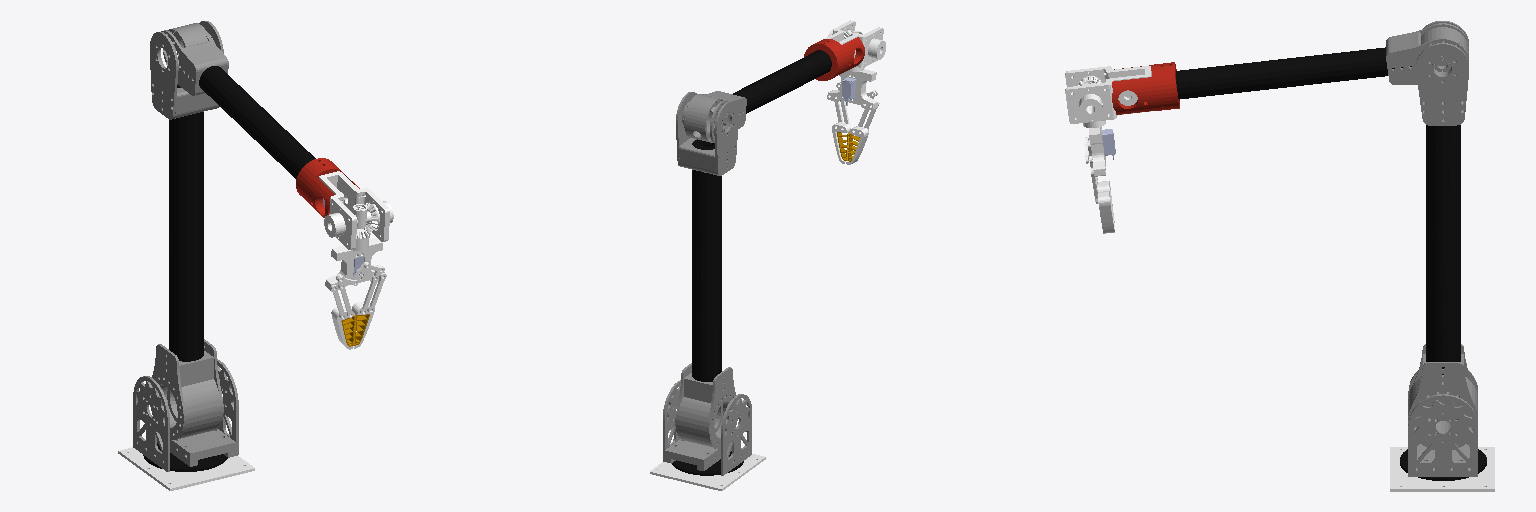
--- Facts derived from the render (not from the file) ---
3 views of the same robot in one strip: view 1: azimuth 30°, elevation 25°; view 2: azimuth 150°, elevation 25°; view 3: azimuth 270°, elevation 25° (orthographic).
Model new_manipulator_urdf2 with 42 links and 41 joints (18 revolute, 23 fixed), rooted at base_link, posed every joint at zero.
Visible links, largest first — view 1: link1, link2, link1_side_plate2, link3, outer_shaft1, base_link, link2_side_plate21, plate_support, link3_holder, link1_side_plate22, link1_side_plate1, gripper_mainbody (+6 smaller); view 2: link1, link2, link1_side_plate2, outer_shaft1, link2_side_plate21, base_link, link3_holder, plate_support, outer_shaft2, link1_side_plate22, gripper_mainbody, link1_end_part (+3 smaller); view 3: link1, link2, link1_side_plate1, link2_side_plate11, link3, link3_holder, base_link, link1_side_plate12, link2_side_plate_12, gripper_mainbody, outer_shaft1, outer_shaft2.
Link boxes in pixels (<box>): link1: <box>169,85,203,361</box>; link2: <box>199,66,315,178</box>; link1_side_plate2: <box>133,376,169,471</box>; link3: <box>319,171,389,249</box>; outer_shaft1: <box>159,379,220,439</box>; base_link: <box>118,447,254,490</box>; link2_side_plate21: <box>150,32,178,119</box>; plate_support: <box>157,429,235,466</box>; link3_holder: <box>296,158,359,217</box>; link1_side_plate22: <box>150,344,185,439</box>; link1_side_plate1: <box>217,359,238,455</box>; gripper_mainbody: <box>325,237,384,291</box>; link1: <box>692,139,721,381</box>; link2: <box>733,50,831,113</box>; link1_side_plate2: <box>721,394,751,475</box>; outer_shaft1: <box>677,397,730,447</box>; link2_side_plate21: <box>714,101,738,175</box>; base_link: <box>650,454,765,490</box>; link3_holder: <box>804,37,864,80</box>; plate_support: <box>665,439,731,470</box>; outer_shaft2: <box>686,94,727,142</box>; link1_side_plate22: <box>707,367,737,448</box>; gripper_mainbody: <box>827,69,877,109</box>; link1_end_part: <box>679,138,717,175</box>; link1: <box>1426,125,1460,374</box>; link2: <box>1176,47,1411,99</box>; link1_side_plate1: <box>1408,394,1477,476</box>; link2_side_plate11: <box>1416,43,1468,125</box>; link3: <box>1065,66,1151,123</box>; link3_holder: <box>1112,62,1179,114</box>; base_link: <box>1390,447,1494,491</box>; link1_side_plate12: <box>1408,362,1477,449</box>; link2_side_plate_12: <box>1386,38,1468,84</box>; gripper_mainbody: <box>1089,127,1105,176</box>; outer_shaft1: <box>1408,377,1477,434</box>; outer_shaft2: <box>1421,27,1468,55</box>.
Size in the robot's own frame: 0.17 by 0.7359 by 0.829 metres.
39 mesh visuals loaded from 42 distinct referenced files (39 binary STL); not drawn: 3 (reference not matched to a file when rendering).

URDF robot description (new_manipulator_urdf2):
<?xml version="1.0" encoding="utf-8"?>
<!-- This URDF was automatically created by SolidWorks to URDF Exporter! Originally created by Stephen Brawner ([email redacted]) 
     Commit Version: 1.6.0-4-g7f85cfe  Build Version: 1.6.7995.38578
     For more information, please see http://wiki.ros.org/sw_urdf_exporter -->
<robot
  name="new_manipulator_urdf2">
  <link
    name="base_link">
    <inertial>
      <origin
        xyz="-2.22044604925031E-16 -0.00224854905210781 4.44089209850063E-16"
        rpy="0 0 0" />
      <mass
        value="0.139707136084498" />
      <inertia
        ixx="0.000407966760717312"
        ixy="-2.98071223098969E-19"
        ixz="2.52359462446658E-18"
        iyy="0.000362153855961994"
        iyz="6.68817379847048E-18"
        izz="0.000769538503612287" />
    </inertial>
    <visual>
      <origin
        xyz="0 0 0"
        rpy="0 0 0" />
      <geometry>
        <mesh
          filename="package://new_manipulator_urdf2/meshes/base_link.STL" />
      </geometry>
      <material
        name="">
        <color
          rgba="0.96078431372549 0.96078431372549 0.964705882352941 1" />
      </material>
    </visual>
    <collision>
      <origin
        xyz="0 0 0"
        rpy="0 0 0" />
      <geometry>
        <mesh
          filename="package://new_manipulator_urdf2/meshes/base_link.STL" />
      </geometry>
    </collision>
  </link>
  <link
    name="base_plate">
    <inertial>
      <origin
        xyz="-1.22886286372248E-05 0 1.11022302462516E-16"
        rpy="0 0 0" />
      <mass
        value="0.0862820052494155" />
      <inertia
        ixx="0.000123802300064541"
        ixy="1.06663922016303E-19"
        ixz="8.84714563380274E-19"
        iyy="0.000121470538062705"
        iyz="2.03454754632287E-18"
        izz="0.00024491332977204" />
    </inertial>
    <visual>
      <origin
        xyz="0 0 0"
        rpy="0 0 0" />
      <geometry>
        <mesh
          filename="package://new_manipulator_urdf2/meshes/base_plate.STL" />
      </geometry>
      <material
        name="">
        <color
          rgba="0.0980392156862745 0.0980392156862745 0.0980392156862745 1" />
      </material>
    </visual>
    <collision>
      <origin
        xyz="0 0 0"
        rpy="0 0 0" />
      <geometry>
        <mesh
          filename="package://new_manipulator_urdf2/meshes/base_plate.STL" />
      </geometry>
    </collision>
  </link>
  <joint
    name="base_link_j_base_plate"
    type="revolute">
    <origin
      xyz="0 0 0.015"
      rpy="0 0 0" />
    <parent
      link="base_link" />
    <child
      link="base_plate" />
    <axis
      xyz="0 0 -1" />
    <limit
      lower="0"
      upper="6.28"
      effort="500"
      velocity="5" />
  </joint>
  <link
    name="plate_support">
    <inertial>
      <origin
        xyz="4.44089209850063E-16 0.0599999999999996 9.42699875334796E-05"
        rpy="0 0 0" />
      <mass
        value="0.20022424904567" />
      <inertia
        ixx="0.000252771572791514"
        ixy="-4.18218020954489E-19"
        ixz="1.13901000627266E-18"
        iyy="0.000176249764770248"
        iyz="4.112236499079E-18"
        izz="0.00041080341734212" />
    </inertial>
    <visual>
      <origin
        xyz="0 0 0"
        rpy="0 0 0" />
      <geometry>
        <mesh
          filename="package://new_manipulator_urdf2/meshes/plate_support.STL" />
      </geometry>
      <material
        name="">
        <color
          rgba="0.627450980392157 0.627450980392157 0.627450980392157 1" />
      </material>
    </visual>
    <collision>
      <origin
        xyz="0 0 0"
        rpy="0 0 0" />
      <geometry>
        <mesh
          filename="package://new_manipulator_urdf2/meshes/plate_support.STL" />
      </geometry>
    </collision>
  </link>
  <joint
    name="baseplate_j_plate_support"
    type="fixed">
    <origin
      xyz="0.0195 -0.06 0.018179"
      rpy="0 0 0" />
    <parent
      link="base_plate" />
    <child
      link="plate_support" />
    <axis
      xyz="0 0 0" />
  </joint>
  <link
    name="link1_side_plate1">
    <inertial>
      <origin
        xyz="4.44089209850063E-16 0.0150134261644279 0.0554613514893123"
        rpy="0 0 0" />
      <mass
        value="0.0682158367067577" />
      <inertia
        ixx="0.000205387282310402"
        ixy="-5.49279557105901E-19"
        ixz="-9.74556171742922E-19"
        iyy="0.000126772358326724"
        iyz="-1.08018754993082E-08"
        izz="7.88991566366221E-05" />
    </inertial>
    <visual>
      <origin
        xyz="0 0 0"
        rpy="0 0 0" />
      <geometry>
        <mesh
          filename="package://new_manipulator_urdf2/meshes/link1_side_plate1.STL" />
      </geometry>
      <material
        name="">
        <color
          rgba="0.627450980392157 0.627450980392157 0.627450980392157 1" />
      </material>
    </visual>
    <collision>
      <origin
        xyz="0 0 0"
        rpy="0 0 0" />
      <geometry>
        <mesh
          filename="package://new_manipulator_urdf2/meshes/link1_side_plate1.STL" />
      </geometry>
    </collision>
  </link>
  <joint
    name="plate_support_j_sideplate1"
    type="fixed">
    <origin
      xyz="0.0485 0.045 -0.00067857"
      rpy="0 0 0" />
    <parent
      link="plate_support" />
    <child
      link="link1_side_plate1" />
    <axis
      xyz="0 0 0" />
  </joint>
  <link
    name="link1_side_plate12">
    <inertial>
      <origin
        xyz="4.44089209850063E-16 4.44089209850063E-16 0.0310582864617434"
        rpy="0 0 0" />
      <mass
        value="0.0499638320857503" />
      <inertia
        ixx="0.000167600746600551"
        ixy="9.28776659826906E-21"
        ixz="-1.33327816191701E-19"
        iyy="0.000117287241228739"
        iyz="-7.43091486371195E-19"
        izz="5.05216880055031E-05" />
    </inertial>
    <visual>
      <origin
        xyz="0 0 0"
        rpy="0 0 0" />
      <geometry>
        <mesh
          filename="package://new_manipulator_urdf2/meshes/link1_side_plate12.STL" />
      </geometry>
      <material
        name="">
        <color
          rgba="0.627450980392157 0.627450980392157 0.627450980392157 1" />
      </material>
    </visual>
    <collision>
      <origin
        xyz="0 0 0"
        rpy="0 0 0" />
      <geometry>
        <mesh
          filename="package://new_manipulator_urdf2/meshes/link1_side_plate12.STL" />
      </geometry>
    </collision>
  </link>
  <joint
    name="side_plate1_j_side_plate12"
    type="revolute">
    <origin
      xyz="-0.03 0.015 0.08"
      rpy="0 0 0" />
    <parent
      link="link1_side_plate1" />
    <child
      link="link1_side_plate12" />
    <axis
      xyz="1 0 0" />
    <limit
      lower="-1.57"
      upper="1.57"
      effort="500"
      velocity="1" />
  </joint>
  <link
    name="outer_shaft1">
    <inertial>
      <origin
        xyz="-0.00772630874309455 4.44089209850063E-16 -1.11022302462516E-16"
        rpy="0 0 0" />
      <mass
        value="0.509143234421642" />
      <inertia
        ixx="0.00118267157071951"
        ixy="2.14660790273393E-19"
        ixz="-2.13692540459406E-19"
        iyy="0.000788001513669385"
        iyz="-2.07806932890846E-20"
        izz="0.000788001513669385" />
    </inertial>
    <visual>
      <origin
        xyz="0 0 0"
        rpy="0 0 0" />
      <geometry>
        <mesh
          filename="package://new_manipulator_urdf2/meshes/outer_shaft1.STL" />
      </geometry>
      <material
        name="">
        <color
          rgba="0.627450980392157 0.627450980392157 0.627450980392157 1" />
      </material>
    </visual>
    <collision>
      <origin
        xyz="0 0 0"
        rpy="0 0 0" />
      <geometry>
        <mesh
          filename="package://new_manipulator_urdf2/meshes/outer_shaft1.STL" />
      </geometry>
    </collision>
  </link>
  <joint
    name="side_plate12_j_outer_shaft1"
    type="fixed">
    <origin
      xyz="-0.028 0 0"
      rpy="0 0 0" />
    <parent
      link="link1_side_plate12" />
    <child
      link="outer_shaft1" />
    <axis
      xyz="0 0 0" />
  </joint>
  <link
    name="link1_holder">
    <inertial>
      <origin
        xyz="1.54143921293759E-07 -2.52144496393214E-08 -0.005799534584638"
        rpy="0 0 0" />
      <mass
        value="0.0841346188443606" />
      <inertia
        ixx="6.47642859009133E-05"
        ixy="8.23411710931886E-12"
        ixz="-1.08890847202512E-11"
        iyy="5.82653437006155E-05"
        iyz="2.9352113029424E-12"
        izz="0.000103444871427076" />
    </inertial>
    <visual>
      <origin
        xyz="0 0 0"
        rpy="0 0 0" />
      <geometry>
        <mesh
          filename="package://new_manipulator_urdf2/meshes/link1_holder.STL" />
      </geometry>
      <material
        name="">
        <color
          rgba="0.627450980392157 0.627450980392157 0.627450980392157 1" />
      </material>
    </visual>
    <collision>
      <origin
        xyz="0 0 0"
        rpy="0 0 0" />
      <geometry>
        <mesh
          filename="package://new_manipulator_urdf2/meshes/link1_holder.STL" />
      </geometry>
    </collision>
  </link>
  <joint
    name="outer_shaft1_j_link1_holder"
    type="fixed">
    <origin
      xyz="-0.0095001 0 0.076"
      rpy="0 0 0" />
    <parent
      link="outer_shaft1" />
    <child
      link="link1_holder" />
    <axis
      xyz="0 0 0" />
  </joint>
  <link
    name="link1">
    <inertial>
      <origin
        xyz="2.61491217568022E-09 -1.96853406908559E-08 -1.68497195167649E-05"
        rpy="0 0 0" />
      <mass
        value="1.16262072100795" />
      <inertia
        ixx="0.0294764673709808"
        ixy="-7.58278885604543E-09"
        ixz="3.71883808278725E-09"
        iyy="0.0294766181912142"
        iyz="5.34641410549775E-09"
        izz="0.000654113236445879" />
    </inertial>
    <visual>
      <origin
        xyz="0 0 0"
        rpy="0 0 0" />
      <geometry>
        <mesh
          filename="package://new_manipulator_urdf2/meshes/link1.STL" />
      </geometry>
      <material
        name="">
        <color
          rgba="0.0980392156862745 0.0980392156862745 0.0980392156862745 1" />
      </material>
    </visual>
    <collision>
      <origin
        xyz="0 0 0"
        rpy="0 0 0" />
      <geometry>
        <mesh
          filename="package://new_manipulator_urdf2/meshes/link1.STL" />
      </geometry>
    </collision>
  </link>
  <joint
    name="link1_holder_j_link1"
    type="fixed">
    <origin
      xyz="0 0 0.26095"
      rpy="0 0 0" />
    <parent
      link="link1_holder" />
    <child
      link="link1" />
    <axis
      xyz="0 0 0" />
  </joint>
  <link
    name="link1_end_part">
    <inertial>
      <origin
        xyz="-1.74060011626231E-07 1.57060774164108E-07 0.00113323234783302"
        rpy="0 0 0" />
      <mass
        value="0.171901132424438" />
      <inertia
        ixx="0.000147281829071962"
        ixy="-2.17389957093923E-11"
        ixz="-4.90680401859828E-10"
        iyy="0.000200174484694879"
        iyz="1.42730130731353E-09"
        izz="0.000271952693993483" />
    </inertial>
    <visual>
      <origin
        xyz="0 0 0"
        rpy="0 0 0" />
      <geometry>
        <mesh
          filename="package://new_manipulator_urdf2/meshes/link1_end_part.STL" />
      </geometry>
      <material
        name="">
        <color
          rgba="0.627450980392157 0.627450980392157 0.627450980392157 1" />
      </material>
    </visual>
    <collision>
      <origin
        xyz="0 0 0"
        rpy="0 0 0" />
      <geometry>
        <mesh
          filename="package://new_manipulator_urdf2/meshes/link1_end_part.STL" />
      </geometry>
    </collision>
  </link>
  <joint
    name="link1_J_end_part"
    type="fixed">
    <origin
      xyz="0 0 0.24912"
      rpy="0 0 0" />
    <parent
      link="link1" />
    <child
      link="link1_end_part" />
    <axis
      xyz="0 0 0" />
  </joint>
  <link
    name="link2_side_plate11">
    <inertial>
      <origin
        xyz="5.55111512312578E-16 -0.000621912582690287 0.0311549842986414"
        rpy="0 0 0" />
      <mass
        value="0.0528050348230078" />
      <inertia
        ixx="0.000126324772056133"
        ixy="1.50694660718213E-20"
        ixz="-5.54646076186613E-20"
        iyy="9.4701438016944E-05"
        iyz="1.25526676387361E-06"
        izz="3.18433550176184E-05" />
    </inertial>
    <visual>
      <origin
        xyz="0 0 0"
        rpy="0 0 0" />
      <geometry>
        <mesh
          filename="package://new_manipulator_urdf2/meshes/link2_side_plate11.STL" />
      </geometry>
      <material
        name="">
        <color
          rgba="0.627450980392157 0.627450980392157 0.627450980392157 1" />
      </material>
    </visual>
    <collision>
      <origin
        xyz="0 0 0"
        rpy="0 0 0" />
      <geometry>
        <mesh
          filename="package://new_manipulator_urdf2/meshes/link2_side_plate11.STL" />
      </geometry>
    </collision>
  </link>
  <joint
    name="end_part_j_side_plate11"
    type="fixed">
    <origin
      xyz="0.0455 0 0.015927"
      rpy="0 0 0" />
    <parent
      link="link1_end_part" />
    <child
      link="link2_side_plate11" />
    <axis
      xyz="0 0 0" />
  </joint>
  <link
    name="motor_holder">
    <inertial>
      <origin
        xyz="-0.00584650550007593 -2.22044604925031E-16 -4.44089209850063E-16"
        rpy="0 0 0" />
      <mass
        value="0.031956101125965" />
      <inertia
        ixx="1.46272579690827E-05"
        ixy="-3.04094854525027E-22"
        ixz="-1.34311000273746E-20"
        iyy="8.61130071305443E-06"
        iyz="2.56712386368993E-21"
        izz="8.61130071305441E-06" />
    </inertial>
    <visual>
      <origin
        xyz="0 0 0"
        rpy="0 0 0" />
      <geometry>
        <mesh
          filename="package://new_manipulator_urdf2/meshes/motor_holder.STL" />
      </geometry>
      <material
        name="">
        <color
          rgba="0.627450980392157 0.627450980392157 0.627450980392157 1" />
      </material>
    </visual>
    <collision>
      <origin
        xyz="0 0 0"
        rpy="0 0 0" />
      <geometry>
        <mesh
          filename="package://new_manipulator_urdf2/meshes/motor_holder.STL" />
      </geometry>
    </collision>
  </link>
  <joint
    name="link2_side_plate11_j_motor_holder"
    type="fixed">
    <origin
      xyz="-0.00675 -0.0013172 0.065987"
      rpy="0 0 0" />
    <parent
      link="link2_side_plate11" />
    <child
      link="motor_holder" />
    <axis
      xyz="0 0 0" />
  </joint>
  <link
    name="link2_side_plate_12">
    <inertial>
      <origin
        xyz="5.55111512312578E-16 -0.039717131815086 -0.00491984724371952"
        rpy="0 0 0" />
      <mass
        value="0.0287294522350535" />
      <inertia
        ixx="6.13941167735551E-05"
        ixy="3.3920635179007E-20"
        ixz="-6.2467002738095E-21"
        iyy="1.74811605790006E-05"
        iyz="-3.34024586969494E-06"
        izz="4.40326622455339E-05" />
    </inertial>
    <visual>
      <origin
        xyz="0 0 0"
        rpy="0 0 0" />
      <geometry>
        <mesh
          filename="package://new_manipulator_urdf2/meshes/link2_side_plate_12.STL" />
      </geometry>
      <material
        name="">
        <color
          rgba="0.627450980392157 0.627450980392157 0.627450980392157 1" />
      </material>
    </visual>
    <collision>
      <origin
        xyz="0 0 0"
        rpy="0 0 0" />
      <geometry>
        <mesh
          filename="package://new_manipulator_urdf2/meshes/link2_side_plate_12.STL" />
      </geometry>
    </collision>
  </link>
  <joint
    name="motor_holder_j_side_plate_12"
    type="revolute">
    <origin
      xyz="-0.01325 0 0"
      rpy="0 0 0" />
    <parent
      link="motor_holder" />
    <child
      link="link2_side_plate_12" />
    <axis
      xyz="-1 0 0" />
    <limit
      lower="-0.1"
      upper="1.57"
      effort="500"
      velocity="1" />
  </joint>
  <link
    name="outer_shaft2">
    <inertial>
      <origin
        xyz="-0.00185202704146603 -9.2405662460493E-05 6.41056320225264E-05"
        rpy="0 0 0" />
      <mass
        value="0.136055116672961" />
      <inertia
        ixx="0.000202629151935712"
        ixy="-4.64394915785094E-08"
        ixz="3.22327908017919E-08"
        iyy="0.000124866679772093"
        iyz="-5.47298364929438E-06"
        izz="0.000116146064523454" />
    </inertial>
    <visual>
      <origin
        xyz="0 0 0"
        rpy="0 0 0" />
      <geometry>
        <mesh
          filename="package://new_manipulator_urdf2/meshes/outer_shaft2.STL" />
      </geometry>
      <material
        name="">
        <color
          rgba="0.627450980392157 0.627450980392157 0.627450980392157 1" />
      </material>
    </visual>
    <collision>
      <origin
        xyz="0 0 0"
        rpy="0 0 0" />
      <geometry>
        <mesh
          filename="package://new_manipulator_urdf2/meshes/outer_shaft2.STL" />
      </geometry>
    </collision>
  </link>
  <joint
    name="link2_side_plate_j_outer_shaft2"
    type="fixed">
    <origin
      xyz="-0.019951 0 0"
      rpy="0 0 0" />
    <parent
      link="link2_side_plate_12" />
    <child
      link="outer_shaft2" />
    <axis
      xyz="0 0 0" />
  </joint>
  <link
    name="link2_side_plate22">
    <inertial>
      <origin
        xyz="3.33066907387547E-16 -0.0397171318150851 -0.00491984724371974"
        rpy="0 0 0" />
      <mass
        value="0.0287294522350539" />
      <inertia
        ixx="6.13941167735567E-05"
        ixy="1.26868156330376E-21"
        ixz="-3.27976997977857E-20"
        iyy="1.74811605790008E-05"
        iyz="-3.34024586969501E-06"
        izz="4.40326622455353E-05" />
    </inertial>
    <visual>
      <origin
        xyz="0 0 0"
        rpy="0 0 0" />
      <geometry>
        <mesh
          filename="package://new_manipulator_urdf2/meshes/link2_side_plate22.STL" />
      </geometry>
      <material
        name="">
        <color
          rgba="0.627450980392157 0.627450980392157 0.627450980392157 1" />
      </material>
    </visual>
    <collision>
      <origin
        xyz="0 0 0"
        rpy="0 0 0" />
      <geometry>
        <mesh
          filename="package://new_manipulator_urdf2/meshes/link2_side_plate22.STL" />
      </geometry>
    </collision>
  </link>
  <joint
    name="outer_shaft_j_side_plate22"
    type="fixed">
    <origin
      xyz="-0.040049 0 0"
      rpy="0 0 0" />
    <parent
      link="outer_shaft2" />
    <child
      link="link2_side_plate22" />
    <axis
      xyz="0 0 0" />
  </joint>
  <link
    name="link2_holder">
    <inertial>
      <origin
        xyz="2.0619170283398E-06 0.00813205255589899 0.0010073901871086"
        rpy="0 0 0" />
      <mass
        value="0.0930218057872073" />
      <inertia
        ixx="8.39198156970618E-05"
        ixy="-2.6718650837238E-09"
        ixz="-1.77919164025414E-10"
        iyy="9.05510577582414E-05"
        iyz="4.13970788127066E-06"
        izz="5.76455888171896E-05" />
    </inertial>
    <visual>
      <origin
        xyz="0 0 0"
        rpy="0 0 0" />
      <geometry>
        <mesh
          filename="package://new_manipulator_urdf2/meshes/link2_holder.STL" />
      </geometry>
      <material
        name="">
        <color
          rgba="0.627450980392157 0.627450980392157 0.627450980392157 1" />
      </material>
    </visual>
    <collision>
      <origin
        xyz="0 0 0"
        rpy="0 0 0" />
      <geometry>
        <mesh
          filename="package://new_manipulator_urdf2/meshes/link2_holder.STL" />
      </geometry>
    </collision>
  </link>
  <joint
    name="outer_shaft2_J_link2_holder"
    type="fixed">
    <origin
      xyz="-0.01005 -0.070375 -0.0087174"
      rpy="0 0 0" />
    <parent
      link="outer_shaft2" />
    <child
      link="link2_holder" />
    <axis
      xyz="0 0 0" />
  </joint>
  <link
    name="link2">
    <inertial>
      <origin
        xyz="3.32665672786447E-09 -6.24214728683903E-06 -7.73723946023708E-07"
        rpy="0 0 0" />
      <mass
        value="0.738793048590476" />
      <inertia
        ixx="0.0125139162815572"
        ixy="-2.37710463237503E-08"
        ixz="1.91853538131335E-07"
        iyy="0.000453023321934702"
        iyz="-0.00149413526024665"
        izz="0.0123298546752209" />
    </inertial>
    <visual>
      <origin
        xyz="0 0 0"
        rpy="0 0 0" />
      <geometry>
        <mesh
          filename="package://new_manipulator_urdf2/meshes/link2.STL" />
      </geometry>
      <material
        name="">
        <color
          rgba="0.0980392156862745 0.0980392156862745 0.0980392156862745 1" />
      </material>
    </visual>
    <collision>
      <origin
        xyz="0 0 0"
        rpy="0 0 0" />
      <geometry>
        <mesh
          filename="package://new_manipulator_urdf2/meshes/link2.STL" />
      </geometry>
    </collision>
  </link>
  <joint
    name="link2_holder_j_link2"
    type="fixed">
    <origin
      xyz="0 -0.19958 -0.024722"
      rpy="0 0 0" />
    <parent
      link="link2_holder" />
    <child
      link="link2" />
    <axis
      xyz="0 0 0" />
  </joint>
  <link
    name="link3_holder">
    <inertial>
      <origin
        xyz="-1.32817367659577E-07 -0.021143199221398 -0.00254036448894812"
        rpy="0 0 0" />
      <mass
        value="0.188164299848226" />
      <inertia
        ixx="0.000263210682129164"
        ixy="-1.24136411525225E-09"
        ixz="-5.02555876414802E-11"
        iyy="0.000219043978272138"
        iyz="-1.13273894097352E-05"
        izz="0.000310780367033102" />
    </inertial>
    <visual>
      <origin
        xyz="0 0 0"
        rpy="0 0 0" />
      <geometry>
        <mesh
          filename="package://new_manipulator_urdf2/meshes/link3_holder.STL" />
      </geometry>
      <material
        name="">
        <color
          rgba="0.768627450980392 0.207843137254902 0.152941176470588 1" />
      </material>
    </visual>
    <collision>
      <origin
        xyz="0 0 0"
        rpy="0 0 0" />
      <geometry>
        <mesh
          filename="package://new_manipulator_urdf2/meshes/link3_holder.STL" />
      </geometry>
    </collision>
  </link>
  <joint
    name="link2_j_link3_holder"
    type="fixed">
    <origin
      xyz="0 -0.20401 -0.025271"
      rpy="0 0 0" />
    <parent
      link="link2" />
    <child
      link="link3_holder" />
    <axis
      xyz="0 0 0" />
  </joint>
  <link
    name="link3">
    <inertial>
      <origin
        xyz="-0.0170000000959188 -0.0187763595650603 -0.00238682781019572"
        rpy="0 0 0" />
      <mass
        value="0.199449879103002" />
      <inertia
        ixx="0.000445645399692473"
        ixy="3.90013518644957E-12"
        ixz="-3.30846133775281E-11"
        iyy="0.000202127226065979"
        iyz="-3.54670309739077E-05"
        izz="0.000475268786200657" />
    </inertial>
    <visual>
      <origin
        xyz="0 0 0"
        rpy="0 0 0" />
      <geometry>
        <mesh
          filename="package://new_manipulator_urdf2/meshes/link3.STL" />
      </geometry>
      <material
        name="">
        <color
          rgba="1 1 1 0.35" />
      </material>
    </visual>
    <collision>
      <origin
        xyz="0 0 0"
        rpy="0 0 0" />
      <geometry>
        <mesh
          filename="package://new_manipulator_urdf2/meshes/link3.STL" />
      </geometry>
    </collision>
  </link>
  <joint
    name="link3_holder_j_link3"
    type="fixed">
    <origin
      xyz="0.0175 -0.064892 -0.0080382"
      rpy="0 0 0" />
    <parent
      link="link3_holder" />
    <child
      link="link3" />
    <axis
      xyz="0 0 0" />
  </joint>
  <link
    name="bevel1">
    <inertial>
      <origin
        xyz="-0.00377251446524274 1.29785737712496E-10 2.53810306105606E-11"
        rpy="0 0 0" />
      <mass
        value="0.04202578948651" />
      <inertia
        ixx="1.00438476344988E-05"
        ixy="7.48881130729221E-14"
        ixz="2.4373929310945E-14"
        iyy="9.98292053763495E-06"
        iyz="-2.10732752729565E-16"
        izz="9.98292054206863E-06" />
    </inertial>
    <visual>
      <origin
        xyz="0 0 0"
        rpy="0 0 0" />
      <geometry>
        <mesh
          filename="package://new_manipulator_urdf2/meshes/bevel1.STL" />
      </geometry>
      <material
        name="">
        <color
          rgba="1 1 1 0.35" />
      </material>
    </visual>
    <collision>
      <origin
        xyz="0 0 0"
        rpy="0 0 0" />
      <geometry>
        <mesh
          filename="package://new_manipulator_urdf2/meshes/bevel1.STL" />
      </geometry>
    </collision>
  </link>
  <joint
    name="link3_j_bevel1"
    type="revolute">
    <origin
      xyz="0.026096 -0.064131 -0.0081052"
      rpy="0 0 0" />
    <parent
      link="link3" />
    <child
      link="bevel1" />
    <axis
      xyz="-1 0 0" />
    <limit
      lower="0"
      upper="6.28"
      effort="500"
      velocity="1" />
  </joint>
  <link
    name="bevelcoupler">
    <inertial>
      <origin
        xyz="-0.000201386284989447 0.00031529999168578 -0.00362440249815354"
        rpy="0 0 0" />
      <mass
        value="0.0209029839604551" />
      <inertia
        ixx="2.55772080126936E-06"
        ixy="1.1001983416562E-09"
        ixz="-1.33971276273617E-08"
        iyy="3.89976175675072E-06"
        iyz="1.05518303528261E-07"
        izz="3.02571078727523E-06" />
    </inertial>
    <visual>
      <origin
        xyz="0 0 0"
        rpy="0 0 0" />
      <geometry>
        <mesh
          filename="package://new_manipulator_urdf2/meshes/bevelcoupler.STL" />
      </geometry>
      <material
        name="">
        <color
          rgba="1 1 1 0.35" />
      </material>
    </visual>
    <collision>
      <origin
        xyz="0 0 0"
        rpy="0 0 0" />
      <geometry>
        <mesh
          filename="package://new_manipulator_urdf2/meshes/bevelcoupler.STL" />
      </geometry>
    </collision>
  </link>
  <joint
    name="bevel1_j_bevel_coupler"
    type="revolute">
    <origin
      xyz="-0.041897 -0.00059194 0.0068096"
      rpy="0 0 0" />
    <parent
      link="bevel1" />
    <child
      link="bevelcoupler" />
    <axis
      xyz="0 -0.12293 0.99242" />
    <limit
      lower="0"
      upper="6.28"
      effort="20"
      velocity="1" />
  </joint>
  <link
    name="bevel2">
    <inertial>
      <origin
        xyz="0.00377251446525584 3.00959257515387E-12 -1.79158243795996E-10"
        rpy="0 0 0" />
      <mass
        value="0.0420257894865733" />
      <inertia
        ixx="1.00438476345E-05"
        ixy="9.6485284525207E-15"
        ixz="9.55249388963063E-14"
        iyy="9.98292053764471E-06"
        iyz="1.14958570656255E-16"
        izz="9.98292054206497E-06" />
    </inertial>
    <visual>
      <origin
        xyz="0 0 0"
        rpy="0 0 0" />
      <geometry>
        <mesh
          filename="package://new_manipulator_urdf2/meshes/bevel2.STL" />
      </geometry>
      <material
        name="">
        <color
          rgba="1 1 1 0.35" />
      </material>
    </visual>
    <collision>
      <origin
        xyz="0 0 0"
        rpy="0 0 0" />
      <geometry>
        <mesh
          filename="package://new_manipulator_urdf2/meshes/bevel2.STL" />
      </geometry>
    </collision>
  </link>
  <joint
    name="bevel_coupler_j_bevel2"
    type="revolute">
    <origin
      xyz="-0.044295 0.00059194 -0.0068096"
      rpy="0 0 0" />
    <parent
      link="bevelcoupler" />
    <child
      link="bevel2" />
    <axis
      xyz="-1 0 0" />
    <limit
      lower="0"
      upper="6.28"
      effort="20"
      velocity="1" />
  </joint>
  <link
    name="bevel3">
    <inertial>
      <origin
        xyz="-2.57327004149488E-09 0.00344285390081533 0.000426473476989209"
        rpy="0 0 0" />
      <mass
        value="0.0416503672050657" />
      <inertia
        ixx="7.91937238183527E-06"
        ixy="1.16877699647925E-12"
        ixz="1.7608970145984E-13"
        iyy="8.58962156346542E-06"
        iyz="8.30255366944487E-08"
        izz="7.92965699118821E-06" />
    </inertial>
    <visual>
      <origin
        xyz="0 0 0"
        rpy="0 0 0" />
      <geometry>
        <mesh
          filename="package://new_manipulator_urdf2/meshes/bevel3.STL" />
      </geometry>
      <material
        name="">
        <color
          rgba="1 1 1 0.35" />
      </material>
    </visual>
    <collision>
      <origin
        xyz="0 0 0"
        rpy="0 0 0" />
      <geometry>
        <mesh
          filename="package://new_manipulator_urdf2/meshes/bevel3.STL" />
      </geometry>
    </collision>
  </link>
  <joint
    name="bevel_coupler_j_bevel3"
    type="revolute">
    <origin
      xyz="0 0.0057785 -0.047208"
      rpy="1.5708 0 0" />
    <parent
      link="bevelcoupler" />
    <child
      link="bevel3" />
    <axis
      xyz="0 0.99242 0.12293" />
    <limit
      lower="0"
      upper="6.28"
      effort="20"
      velocity="1" />
  </joint>
  <link
    name="gripper_mainbody">
    <inertial>
      <origin
        xyz="-0.00552657904914422 0.00262252623035764 -0.0211699521658091"
        rpy="0 0 0" />
      <mass
        value="0.0880731200826313" />
      <inertia
        ixx="6.0309723672064E-05"
        ixy="-5.24250107092708E-12"
        ixz="3.26827608685038E-11"
        iyy="0.000119926322386792"
        iyz="6.62896108105007E-06"
        izz="6.72329014814773E-05" />
    </inertial>
    <visual>
      <origin
        xyz="0 0 0"
        rpy="0 0 0" />
      <geometry>
        <mesh
          filename="package://new_manipulator_urdf2/meshes/gripper_mainbody.STL" />
      </geometry>
      <material
        name="">
        <color
          rgba="1 1 1 0.35" />
      </material>
    </visual>
    <collision>
      <origin
        xyz="0 0 0"
        rpy="0 0 0" />
      <geometry>
        <mesh
          filename="package://new_manipulator_urdf2/meshes/gripper_mainbody.STL" />
      </geometry>
    </collision>
  </link>
  <joint
    name="bevel3_j_gmainbody"
    type="fixed">
    <origin
      xyz="0.0055265 -0.028356 -0.0035123"
      rpy="-1.5708 0 0" />
    <parent
      link="bevel3" />
    <child
      link="gripper_mainbody" />
    <axis
      xyz="0 0 0" />
  </joint>
  <link
    name="servo">
    <inertial>
      <origin
        xyz="-1.26419985591042E-11 0.019532881802238 0.0125207141649559"
        rpy="0 0 0" />
      <mass
        value="0.0333266321174677" />
      <inertia
        ixx="9.05626657783332E-06"
        ixy="5.91598220324226E-15"
        ixz="-8.29256628787803E-15"
        iyy="5.94795141838003E-06"
        iyz="1.1238930919987E-07"
        izz="5.42992484860492E-06" />
    </inertial>
    <visual>
      <origin
        xyz="0 0 0"
        rpy="0 0 0" />
      <geometry>
        <mesh
          filename="package://new_manipulator_urdf2/meshes/servo.STL" />
      </geometry>
      <material
        name="">
        <color
          rgba="0.792156862745098 0.819607843137255 0.933333333333333 1" />
      </material>
    </visual>
    <collision>
      <origin
        xyz="0 0 0"
        rpy="0 0 0" />
      <geometry>
        <mesh
          filename="package://new_manipulator_urdf2/meshes/servo.STL" />
      </geometry>
    </collision>
  </link>
  <joint
    name="gripper_j_servo"
    type="fixed">
    <origin
      xyz="-0.0055262 -0.0073467 -0.033526"
      rpy="0 0 0" />
    <parent
      link="gripper_mainbody" />
    <child
      link="servo" />
    <axis
      xyz="0 0 0" />
  </joint>
  <link
    name="gl1">
    <inertial>
      <origin
        xyz="-2.21968887714752E-10 -2.16537898722891E-11 1.74806613628675E-10"
        rpy="0 0 0" />
      <mass
        value="0.00217874597756915" />
      <inertia
        ixx="2.1028330117138E-07"
        ixy="1.77740721143962E-08"
        ixz="-1.43487212120176E-07"
        iyy="3.40979174950198E-07"
        iyz="2.45470656712739E-08"
        izz="1.45855378527706E-07" />
    </inertial>
    <visual>
      <origin
        xyz="0 0 0"
        rpy="0 0 0" />
      <geometry>
        <mesh
          filename="package://new_manipulator_urdf2/meshes/gl1.STL" />
      </geometry>
      <material
        name="">
        <color
          rgba="1 1 1 0.35" />
      </material>
    </visual>
    <collision>
      <origin
        xyz="0 0 0"
        rpy="0 0 0" />
      <geometry>
        <mesh
          filename="package://new_manipulator_urdf2/meshes/gl1.STL" />
      </geometry>
    </collision>
  </link>
  <joint
    name="servo_J_gl1"
    type="revolute">
    <origin
      xyz="0 -0.0025679 -0.00031809"
      rpy="0 0 0" />
    <parent
      link="servo" />
    <child
      link="gl1" />
    <axis
      xyz="0 -0.99242 -0.12293" />
    <limit
      lower="0"
      upper="1.3"
      effort="20"
      velocity="1" />
  </joint>
  <link
    name="gl2">
    <inertial>
      <origin
        xyz="0.0152742472160872 0.0009599689001214 -0.00774967381216296"
        rpy="0 0 0" />
      <mass
        value="0.00161819144334082" />
      <inertia
        ixx="6.19798721504658E-08"
        ixy="-1.13290188200474E-08"
        ixz="9.14573383118298E-08"
        iyy="2.49526075826032E-07"
        iyz="6.73897257372591E-09"
        izz="1.95958210314882E-07" />
    </inertial>
    <visual>
      <origin
        xyz="0 0 0"
        rpy="0 0 0" />
      <geometry>
        <mesh
          filename="package://new_manipulator_urdf2/meshes/gl2.STL" />
      </geometry>
      <material
        name="">
        <color
          rgba="1 1 1 0.35" />
      </material>
    </visual>
    <collision>
      <origin
        xyz="0 0 0"
        rpy="0 0 0" />
      <geometry>
        <mesh
          filename="package://new_manipulator_urdf2/meshes/gl2.STL" />
      </geometry>
    </collision>
  </link>
  <joint
    name="gl1_j_gl2"
    type="revolute">
    <origin
      xyz="0.011189 -0.0066954 0.013378"
      rpy="0 0 0" />
    <parent
      link="gl1" />
    <child
      link="gl2" />
    <axis
      xyz="0 -0.99242 -0.12293" />
    <limit
      lower="0"
      upper="1"
      effort="20"
      velocity="1" />
  </joint>
  <link
    name="gl3">
    <inertial>
      <origin
        xyz="-0.00688950732976257 0.00271550016503985 -0.0219217940427769"
        rpy="0 0 0" />
      <mass
        value="0.00412427894973239" />
      <inertia
        ixx="2.92803824500752E-06"
        ixy="1.10754930313204E-07"
        ixz="-8.94106655859301E-07"
        iyy="3.18727754562753E-06"
        iyz="3.55124622304955E-07"
        izz="3.64403910334616E-07" />
    </inertial>
    <visual>
      <origin
        xyz="0 0 0"
        rpy="0 0 0" />
      <geometry>
        <mesh
          filename="package://new_manipulator_urdf2/meshes/gl3.STL" />
      </geometry>
      <material
        name="">
        <color
          rgba="1 1 1 0.35" />
      </material>
    </visual>
    <collision>
      <origin
        xyz="0 0 0"
        rpy="0 0 0" />
      <geometry>
        <mesh
          filename="package://new_manipulator_urdf2/meshes/gl3.STL" />
      </geometry>
    </collision>
  </link>
  <joint
    name="gl2_j_gl3"
    type="revolute">
    <origin
      xyz="0.022537 0.010589 -0.032605"
      rpy="0 0 0" />
    <parent
      link="gl2" />
    <child
      link="gl3" />
    <axis
      xyz="0 0.99242 0.12293" />
    <limit
      lower="0"
      upper="1"
      effort="20"
      velocity="1" />
  </joint>
  <link
    name="jaw_cover">
    <inertial>
      <origin
        xyz="-0.00650870267338388 0.00276414662962443 -0.0223153366915307"
        rpy="0 0 0" />
      <mass
        value="0.0178205529159882" />
      <inertia
        ixx="1.15040977000637E-05"
        ixy="1.59405989883888E-07"
        ixz="-1.2866760130257E-06"
        iyy="1.22145473216694E-05"
        iyz="1.25853524303917E-06"
        izz="2.21025534276384E-06" />
    </inertial>
    <visual>
      <origin
        xyz="0 0 0"
        rpy="0 0 0" />
      <geometry>
        <mesh
          filename="package://new_manipulator_urdf2/meshes/jaw_cover.STL" />
      </geometry>
      <material
        name="">
        <color
          rgba="1 1 1 0.35" />
      </material>
    </visual>
    <collision>
      <origin
        xyz="0 0 0"
        rpy="0 0 0" />
      <geometry>
        <mesh
          filename="package://new_manipulator_urdf2/meshes/jaw_cover.STL" />
      </geometry>
    </collision>
  </link>
  <joint
    name="gl3_j_jaw_cover"
    type="revolute">
    <origin
      xyz="-0.0046281 0.020142 -0.060918"
      rpy="0 0 0" />
    <parent
      link="gl3" />
    <child
      link="jaw_cover" />
    <axis
      xyz="0 0.99242 0.12293" />
    <limit
      lower="0"
      upper="1"
      effort="20"
      velocity="1" />
  </joint>
  <link
    name="jaw1">
    <inertial>
      <origin
        xyz="-0.00286655930693158 0.00295265085958851 -0.0238368047712543"
        rpy="0 0 0" />
      <mass
        value="0.0061353574972217" />
      <inertia
        ixx="2.21237916204447E-06"
        ixy="3.48465115376688E-08"
        ixz="-2.81231499477908E-07"
        iyy="2.48157831604321E-06"
        iyz="2.41849575515697E-07"
        izz="5.59189002996365E-07" />
    </inertial>
    <visual>
      <origin
        xyz="0 0 0"
        rpy="0 0 0" />
      <geometry>
        <mesh
          filename="package://new_manipulator_urdf2/meshes/jaw1.STL" />
      </geometry>
      <material
        name="">
        <color
          rgba="0.784313725490196 0.556862745098039 0.0274509803921569 1" />
      </material>
    </visual>
    <collision>
      <origin
        xyz="0 0 0"
        rpy="0 0 0" />
      <geometry>
        <mesh
          filename="package://new_manipulator_urdf2/meshes/jaw1.STL" />
      </geometry>
    </collision>
  </link>
  <joint
    name="joaw_cover_j_jaw"
    type="fixed">
    <origin
      xyz="-0.013296 -0.0012455 -0.010282"
      rpy="0 0 0" />
    <parent
      link="jaw_cover" />
    <child
      link="jaw1" />
    <axis
      xyz="0 0 0" />
  </joint>
  <link
    name="gl2M">
    <inertial>
      <origin
        xyz="-0.0155641907289482 -0.000886799854665776 0.00715899193136793"
        rpy="0 0 0" />
      <mass
        value="0.00161819144334083" />
      <inertia
        ixx="5.50714146964941E-08"
        ixy="-1.0664180240746E-08"
        ixz="8.6090203890411E-08"
        iyy="2.49630479366597E-07"
        iyz="5.89613966102088E-09"
        izz="2.02762264228293E-07" />
    </inertial>
    <visual>
      <origin
        xyz="0 0 0"
        rpy="0 0 0" />
      <geometry>
        <mesh
          filename="package://new_manipulator_urdf2/meshes/gl2M.STL" />
      </geometry>
      <material
        name="">
        <color
          rgba="1 1 1 0.35" />
      </material>
    </visual>
    <collision>
      <origin
        xyz="0 0 0"
        rpy="0 0 0" />
      <geometry>
        <mesh
          filename="package://new_manipulator_urdf2/meshes/gl2M.STL" />
      </geometry>
    </collision>
  </link>
  <joint
    name="gl1_j_gl2M"
    type="revolute">
    <origin
      xyz="-0.011189 -0.0032287 -0.014608"
      rpy="0 0 0" />
    <parent
      link="gl1" />
    <child
      link="gl2M" />
    <axis
      xyz="0 -0.99242 -0.12293" />
    <limit
      lower="0"
      upper="1"
      effort="20"
      velocity="1" />
  </joint>
  <link
    name="gl3M">
    <inertial>
      <origin
        xyz="0.0140099150498048 0.00501570855779621 -0.0404910047136704"
        rpy="0 0 0" />
      <mass
        value="0.00412427894973244" />
      <inertia
        ixx="2.87473095935985E-06"
        ixy="-1.19684662249975E-07"
        ixz="9.6619493885601E-07"
        iyy="3.1880831479486E-06"
        iyz="3.48621124942479E-07"
        izz="4.16905593661381E-07" />
    </inertial>
    <visual>
      <origin
        xyz="0 0 0"
        rpy="0 0 0" />
      <geometry>
        <mesh
          filename="package://new_manipulator_urdf2/meshes/gl3M.STL" />
      </geometry>
      <material
        name="">
        <color
          rgba="1 1 1 0.35" />
      </material>
    </visual>
    <collision>
      <origin
        xyz="0 0 0"
        rpy="0 0 0" />
      <geometry>
        <mesh
          filename="package://new_manipulator_urdf2/meshes/gl3M.STL" />
      </geometry>
    </collision>
  </link>
  <joint
    name="gl2M_j_gl3m"
    type="revolute">
    <origin
      xyz="-0.029033 0.0047965 0.014153"
      rpy="0 0 0" />
    <parent
      link="gl2M" />
    <child
      link="gl3M" />
    <axis
      xyz="0 0.99242 0.12293" />
    <limit
      lower="0"
      upper="1"
      effort="20"
      velocity="1" />
  </joint>
  <link
    name="jaw_cover_2">
    <inertial>
      <origin
        xyz="-0.00849129732663423 0.0027643485644937 -0.0223153116774026"
        rpy="0 0 0" />
      <mass
        value="0.0178205529159885" />
      <inertia
        ixx="1.15040977000644E-05"
        ixy="-1.59361390195458E-07"
        ixz="1.28668153768374E-06"
        iyy="1.221453316311E-05"
        iyz="1.25859151599525E-06"
        izz="2.21026950132292E-06" />
    </inertial>
    <visual>
      <origin
        xyz="0 0 0"
        rpy="0 0 0" />
      <geometry>
        <mesh
          filename="package://new_manipulator_urdf2/meshes/jaw_cover_2.STL" />
      </geometry>
      <material
        name="">
        <color
          rgba="1 1 1 0.35" />
      </material>
    </visual>
    <collision>
      <origin
        xyz="0 0 0"
        rpy="0 0 0" />
      <geometry>
        <mesh
          filename="package://new_manipulator_urdf2/meshes/jaw_cover_2.STL" />
      </geometry>
    </collision>
  </link>
  <joint
    name="gl3M_j_jaw_cover_2"
    type="revolute">
    <origin
      xyz="0.027904 0.022395 -0.079112"
      rpy="0 0 0" />
    <parent
      link="gl3M" />
    <child
      link="jaw_cover_2" />
    <axis
      xyz="0 -0.99242 -0.12293" />
    <limit
      lower="0"
      upper="1"
      effort="20"
      velocity="1" />
  </joint>
  <link
    name="jaw2">
    <inertial>
      <origin
        xyz="0.0028665600236728 0.0029527738599946 -0.0238367347486339"
        rpy="0 0 0" />
      <mass
        value="0.00613534362328671" />
      <inertia
        ixx="2.21237061107334E-06"
        ixy="-3.48273075668441E-08"
        ixz="2.812339837702E-07"
        iyy="2.48157400047625E-06"
        iyz="2.41833237314832E-07"
        izz="5.59184961467305E-07" />
    </inertial>
    <visual>
      <origin
        xyz="0 0 0"
        rpy="0 0 0" />
      <geometry>
        <mesh
          filename="package://new_manipulator_urdf2/meshes/jaw2.STL" />
      </geometry>
      <material
        name="">
        <color
          rgba="0.784313725490196 0.556862745098039 0.0274509803921569 1" />
      </material>
    </visual>
    <collision>
      <origin
        xyz="0 0 0"
        rpy="0 0 0" />
      <geometry>
        <mesh
          filename="package://new_manipulator_urdf2/meshes/jaw2.STL" />
      </geometry>
    </collision>
  </link>
  <joint
    name="jaw_cover_j_jaw_cover_2"
    type="fixed">
    <origin
      xyz="-0.0017037 -0.0012455 -0.010282"
      rpy="0 0 0" />
    <parent
      link="jaw_cover_2" />
    <child
      link="jaw2" />
    <axis
      xyz="0 0 0" />
  </joint>
  <link
    name="gl4">
    <inertial>
      <origin
        xyz="-0.00981403529941827 0.00386820322553283 -0.0312273795882327"
        rpy="0 0 0" />
      <mass
        value="0.0032869744029739" />
      <inertia
        ixx="1.47612577642965E-06"
        ixy="5.54340087954537E-08"
        ixz="-4.47509795589427E-07"
        iyy="1.61131149814724E-06"
        iyz="1.78416699628077E-07"
        izz="1.93083175348405E-07" />
    </inertial>
    <visual>
      <origin
        xyz="0 0 0"
        rpy="0 0 0" />
      <geometry>
        <mesh
          filename="package://new_manipulator_urdf2/meshes/gl4.STL" />
      </geometry>
      <material
        name="">
        <color
          rgba="1 1 1 0.35" />
      </material>
    </visual>
    <collision>
      <origin
        xyz="0 0 0"
        rpy="0 0 0" />
      <geometry>
        <mesh
          filename="package://new_manipulator_urdf2/meshes/gl4.STL" />
      </geometry>
    </collision>
  </link>
  <joint
    name="g_mainbody_j_gl4"
    type="revolute">
    <origin
      xyz="0.0432 -0.0060214 -0.05307"
      rpy="0 0 0" />
    <parent
      link="gripper_mainbody" />
    <child
      link="gl4" />
    <axis
      xyz="0 -0.99242 -0.12293" />
    <limit
      lower="0"
      upper="1"
      effort="20"
      velocity="1" />
  </joint>
  <link
    name="jaw_cover1">
    <inertial>
      <origin
        xyz="-0.00650870267339732 0.00276414662961666 -0.0223153366915287"
        rpy="0 0 0" />
      <mass
        value="0.0178205529159882" />
      <inertia
        ixx="1.15040977000637E-05"
        ixy="1.59405989883888E-07"
        ixz="-1.28667601302571E-06"
        iyy="1.22145473216694E-05"
        iyz="1.25853524303917E-06"
        izz="2.21025534276384E-06" />
    </inertial>
    <visual>
      <origin
        xyz="0 0 0"
        rpy="0 0 0" />
      <geometry>
        <mesh
          filename="package://new_manipulator_urdf2/meshes/jaw_cover1.STL" />
      </geometry>
      <material
        name="">
        <color
          rgba="1 1 1 0.35" />
      </material>
    </visual>
    <collision>
      <origin
        xyz="0 0 0"
        rpy="0 0 0" />
      <geometry>
        <mesh
          filename="package://new_manipulator_urdf2/meshes/jaw_cover1.STL" />
      </geometry>
    </collision>
  </link>
  <joint
    name="gl4_j_jaw_cover1"
    type="revolute">
    <origin
      xyz="-0.019628 0.020142 -0.060918"
      rpy="0 0 0" />
    <parent
      link="gl4" />
    <child
      link="jaw_cover1" />
    <axis
      xyz="0 -0.99242 -0.12293" />
    <limit
      lower="0"
      upper="1"
      effort="20"
      velocity="1" />
  </joint>
  <link
    name="jaw11">
    <inertial>
      <origin
        xyz="-0.0028665593069318 0.00295265085958873 -0.0238368047712545"
        rpy="0 0 0" />
      <mass
        value="0.0061353574972217" />
      <inertia
        ixx="2.21237916204447E-06"
        ixy="3.48465115376688E-08"
        ixz="-2.81231499477907E-07"
        iyy="2.48157831604321E-06"
        iyz="2.41849575515697E-07"
        izz="5.59189002996364E-07" />
    </inertial>
    <visual>
      <origin
        xyz="0 0 0"
        rpy="0 0 0" />
      <geometry>
        <mesh
          filename="package://new_manipulator_urdf2/meshes/jaw11.STL" />
      </geometry>
      <material
        name="">
        <color
          rgba="0.784313725490196 0.556862745098039 0.0274509803921569 1" />
      </material>
    </visual>
    <collision>
      <origin
        xyz="0 0 0"
        rpy="0 0 0" />
      <geometry>
        <mesh
          filename="package://new_manipulator_urdf2/meshes/jaw11.STL" />
      </geometry>
    </collision>
  </link>
  <joint
    name="jaw_cover1_j_jaw1"
    type="fixed">
    <origin
      xyz="-0.013296 -0.0012455 -0.010282"
      rpy="0 0 0" />
    <parent
      link="jaw_cover1" />
    <child
      link="jaw11" />
    <axis
      xyz="0 0 0" />
  </joint>
  <link
    name="gl4M">
    <inertial>
      <origin
        xyz="0.0107045340669838 0.0038323446599231 -0.0309378991823357"
        rpy="0 0 0" />
      <mass
        value="0.00328697440297392" />
      <inertia
        ixx="1.44944491867369E-06"
        ixy="-5.9903433653792E-08"
        ixz="4.83590740269611E-07"
        iyy="1.61171471059135E-06"
        iyz="1.75161630720812E-07"
        izz="2.19360820660295E-07" />
    </inertial>
    <visual>
      <origin
        xyz="0 0 0"
        rpy="0 0 0" />
      <geometry>
        <mesh
          filename="package://new_manipulator_urdf2/meshes/gl4M.STL" />
      </geometry>
      <material
        name="">
        <color
          rgba="1 1 1 0.35" />
      </material>
    </visual>
    <collision>
      <origin
        xyz="0 0 0"
        rpy="0 0 0" />
      <geometry>
        <mesh
          filename="package://new_manipulator_urdf2/meshes/gl4M.STL" />
      </geometry>
    </collision>
  </link>
  <joint
    name="g_main_body_j_gl4M"
    type="revolute">
    <origin
      xyz="-0.054253 -0.0060214 -0.05307"
      rpy="0 0 0" />
    <parent
      link="gripper_mainbody" />
    <child
      link="gl4M" />
    <axis
      xyz="0 -0.99242 -0.12293" />
    <limit
      lower="0"
      upper="1"
      effort="20"
      velocity="1" />
  </joint>
  <link
    name="jaw_cover2">
    <inertial>
      <origin
        xyz="0.00650870267339276 0.00276434856448904 -0.0223153116774197"
        rpy="0 0 0" />
      <mass
        value="0.0178205529159885" />
      <inertia
        ixx="1.15040977000644E-05"
        ixy="-1.59361390195458E-07"
        ixz="1.28668153768374E-06"
        iyy="1.221453316311E-05"
        iyz="1.25859151599525E-06"
        izz="2.21026950132292E-06" />
    </inertial>
    <visual>
      <origin
        xyz="0 0 0"
        rpy="0 0 0" />
      <geometry>
        <mesh
          filename="package://new_manipulator_urdf2/meshes/jaw_cover2.STL" />
      </geometry>
      <material
        name="">
        <color
          rgba="1 1 1 0.35" />
      </material>
    </visual>
    <collision>
      <origin
        xyz="0 0 0"
        rpy="0 0 0" />
      <geometry>
        <mesh
          filename="package://new_manipulator_urdf2/meshes/jaw_cover2.STL" />
      </geometry>
    </collision>
  </link>
  <joint
    name="gl4M_jaw_cover2"
    type="revolute">
    <origin
      xyz="0.021409 0.02007 -0.060339"
      rpy="0 0 0" />
    <parent
      link="gl4M" />
    <child
      link="jaw_cover2" />
    <axis
      xyz="0 0.99242 0.12293" />
    <limit
      lower="0"
      upper="1"
      effort="20"
      velocity="1" />
  </joint>
  <link
    name="jaw22">
    <inertial>
      <origin
        xyz="0.0028665600236728 0.0029527738599946 -0.0238367347486339"
        rpy="0 0 0" />
      <mass
        value="0.00613534362328671" />
      <inertia
        ixx="2.21237061107334E-06"
        ixy="-3.48273075668441E-08"
        ixz="2.812339837702E-07"
        iyy="2.48157400047625E-06"
        iyz="2.41833237314832E-07"
        izz="5.59184961467305E-07" />
    </inertial>
    <visual>
      <origin
        xyz="0 0 0"
        rpy="0 0 0" />
      <geometry>
        <mesh
          filename="package://new_manipulator_urdf2/meshes/jaw22.STL" />
      </geometry>
      <material
        name="">
        <color
          rgba="0.784313725490196 0.556862745098039 0.0274509803921569 1" />
      </material>
    </visual>
    <collision>
      <origin
        xyz="0 0 0"
        rpy="0 0 0" />
      <geometry>
        <mesh
          filename="package://new_manipulator_urdf2/meshes/jaw22.STL" />
      </geometry>
    </collision>
  </link>
  <joint
    name="jaw_cover_j_jaw2"
    type="fixed">
    <origin
      xyz="0.0132963322155747 -0.00124548232917698 -0.0102817691880914"
      rpy="0 0 0" />
    <parent
      link="jaw_cover2" />
    <child
      link="jaw22" />
    <axis
      xyz="0 0 0" />
  </joint>
  <link
    name="link2_side_plate21">
    <inertial>
      <origin
        xyz="4.44089209850063E-16 -0.000621912583298689 0.0311549842986292"
        rpy="0 0 0" />
      <mass
        value="0.0528050348230073" />
      <inertia
        ixx="0.000126324772056132"
        ixy="-3.13440390194027E-21"
        ixz="-6.94412688415756E-20"
        iyy="9.47014380168939E-05"
        iyz="1.25526676510131E-06"
        izz="3.18433550176673E-05" />
    </inertial>
    <visual>
      <origin
        xyz="0 0 0"
        rpy="0 0 0" />
      <geometry>
        <mesh
          filename="package://new_manipulator_urdf2/meshes/link2_side_plate21.STL" />
      </geometry>
      <material
        name="">
        <color
          rgba="0.627450980392157 0.627450980392157 0.627450980392157 1" />
      </material>
    </visual>
    <collision>
      <origin
        xyz="0 0 0"
        rpy="0 0 0" />
      <geometry>
        <mesh
          filename="package://new_manipulator_urdf2/meshes/link2_side_plate21.STL" />
      </geometry>
    </collision>
  </link>
  <joint
    name="end_part_j_side_plate21"
    type="fixed">
    <origin
      xyz="-0.0455 0 0.015927"
      rpy="0 0 0" />
    <parent
      link="link1_end_part" />
    <child
      link="link2_side_plate21" />
    <axis
      xyz="0 0 0" />
  </joint>
  <link
    name="link1_side_plate22">
    <inertial>
      <origin
        xyz="4.44089209850063E-16 4.44089209850063E-16 0.0310582864617436"
        rpy="0 0 0" />
      <mass
        value="0.0499638320857502" />
      <inertia
        ixx="0.00016760074660055"
        ixy="-1.58171503716543E-20"
        ixz="-1.2910550294783E-19"
        iyy="0.000117287241228738"
        iyz="-5.1572738211495E-19"
        izz="5.05216880055024E-05" />
    </inertial>
    <visual>
      <origin
        xyz="0 0 0"
        rpy="0 0 0" />
      <geometry>
        <mesh
          filename="package://new_manipulator_urdf2/meshes/link1_side_plate22.STL" />
      </geometry>
      <material
        name="">
        <color
          rgba="0.627450980392157 0.627450980392157 0.627450980392157 1" />
      </material>
    </visual>
    <collision>
      <origin
        xyz="0 0 0"
        rpy="0 0 0" />
      <geometry>
        <mesh
          filename="package://new_manipulator_urdf2/meshes/link1_side_plate22.STL" />
      </geometry>
    </collision>
  </link>
  <joint
    name="outer_shaft1_j_side_plate22"
    type="fixed">
    <origin
      xyz="-0.047 0 0"
      rpy="0 0 0" />
    <parent
      link="outer_shaft1" />
    <child
      link="link1_side_plate22" />
    <axis
      xyz="0 0 0" />
  </joint>
  <link
    name="link1_side_plate2">
    <inertial>
      <origin
        xyz="0 0.0150134261644275 0.0554613514893126"
        rpy="0 0 0" />
      <mass
        value="0.0682158367067577" />
      <inertia
        ixx="0.000205387282310402"
        ixy="-2.28687018994439E-22"
        ixz="-8.90509245532832E-20"
        iyy="0.000126772358326724"
        iyz="-1.08018754989578E-08"
        izz="7.88991566366222E-05" />
    </inertial>
    <visual>
      <origin
        xyz="0 0 0"
        rpy="0 0 0" />
      <geometry>
        <mesh
          filename="package://new_manipulator_urdf2/meshes/link1_side_plate2.STL" />
      </geometry>
      <material
        name="">
        <color
          rgba="0.627450980392157 0.627450980392157 0.627450980392157 1" />
      </material>
    </visual>
    <collision>
      <origin
        xyz="0 0 0"
        rpy="0 0 0" />
      <geometry>
        <mesh
          filename="package://new_manipulator_urdf2/meshes/link1_side_plate2.STL" />
      </geometry>
    </collision>
  </link>
  <joint
    name="plate_support_j_side_plate2"
    type="fixed">
    <origin
      xyz="-0.0885 0.045 -0.00067857"
      rpy="0 0 0" />
    <parent
      link="plate_support" />
    <child
      link="link1_side_plate2" />
    <axis
      xyz="0 0 0" />
  </joint>
</robot>
